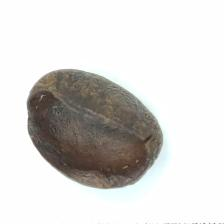NG: (27, 80, 94, 180), (83, 116, 154, 188)
